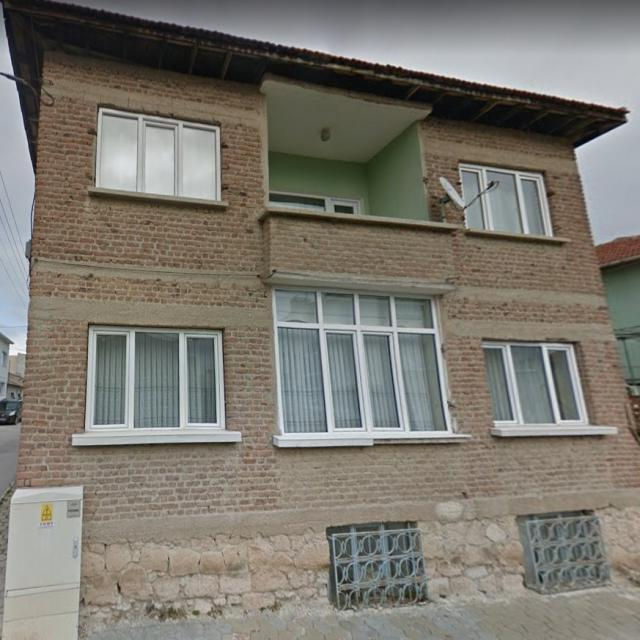Building: (2, 0, 640, 629)
